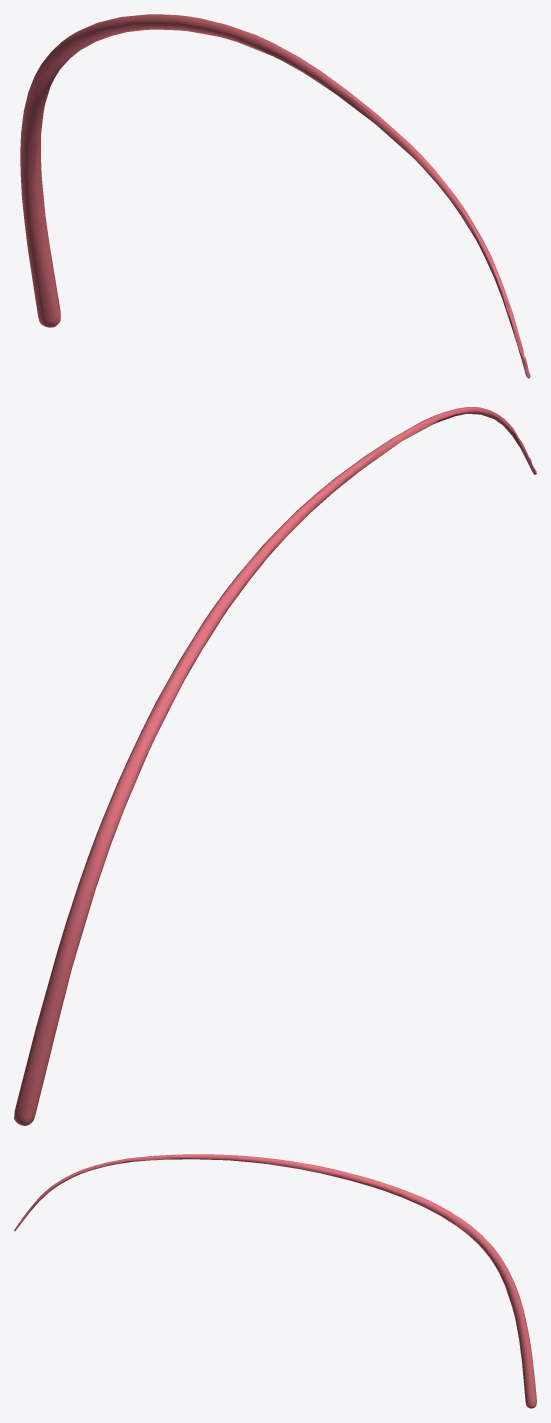
File: fma50673_fj1727m.glb
The picture shows the model from 3 angles, top to bottom: view 1: azimuth 30°, elevation 25°; view 2: azimuth 150°, elevation 25°; view 3: azimuth 270°, elevation 25°; orthographic projection. The views are drawn at different scales.
Parts seen in each view (by area): view 1: FMA50673_FJ1727M; view 2: FMA50673_FJ1727M; view 3: FMA50673_FJ1727M.
Part boxes in pixels (<box>): FMA50673_FJ1727M: <box>20,14,530,378</box>; FMA50673_FJ1727M: <box>14,407,536,1125</box>; FMA50673_FJ1727M: <box>14,1154,536,1408</box>.
Size of the model in its own units: 0.00311 by 0.0227 by 0.044.
